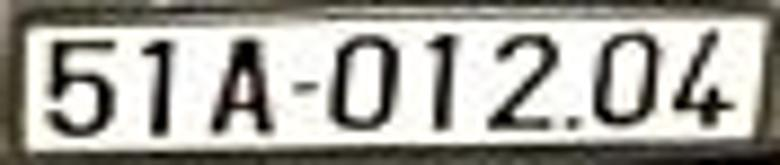-: (286, 81, 320, 98)
.: (565, 119, 579, 130)
0: (329, 38, 398, 127), (594, 27, 653, 123)
1: (141, 39, 176, 134), (426, 34, 456, 131)
2: (496, 30, 547, 131)
4: (673, 30, 732, 127)
5: (51, 39, 119, 141)
A: (209, 37, 274, 137)
